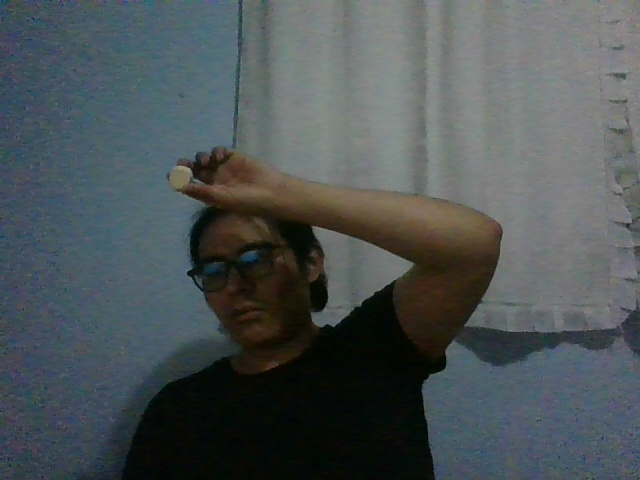goma: (168, 165, 193, 191)
